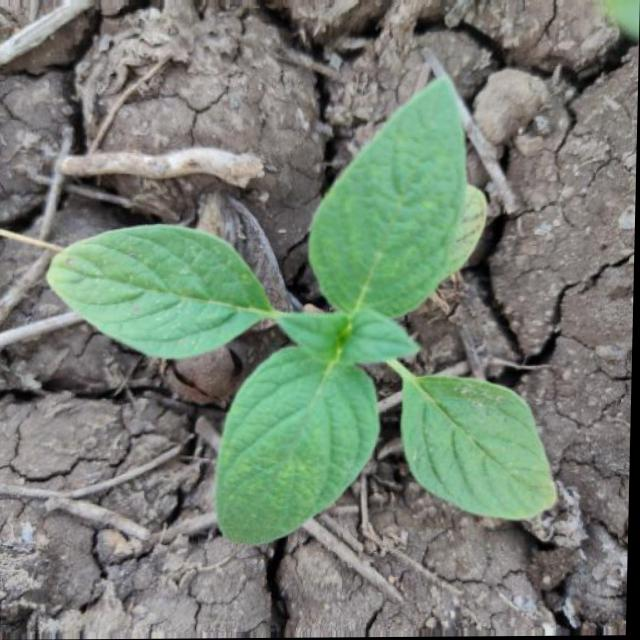crop: (39, 80, 571, 558)
